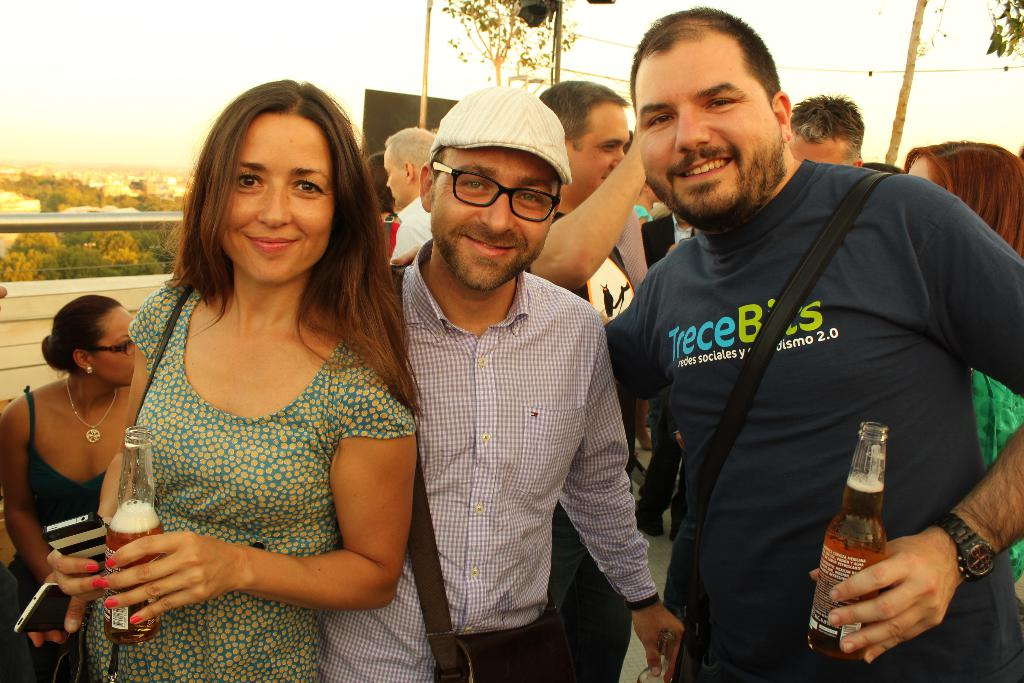Beer: (812, 475, 889, 663), (105, 500, 165, 643)
